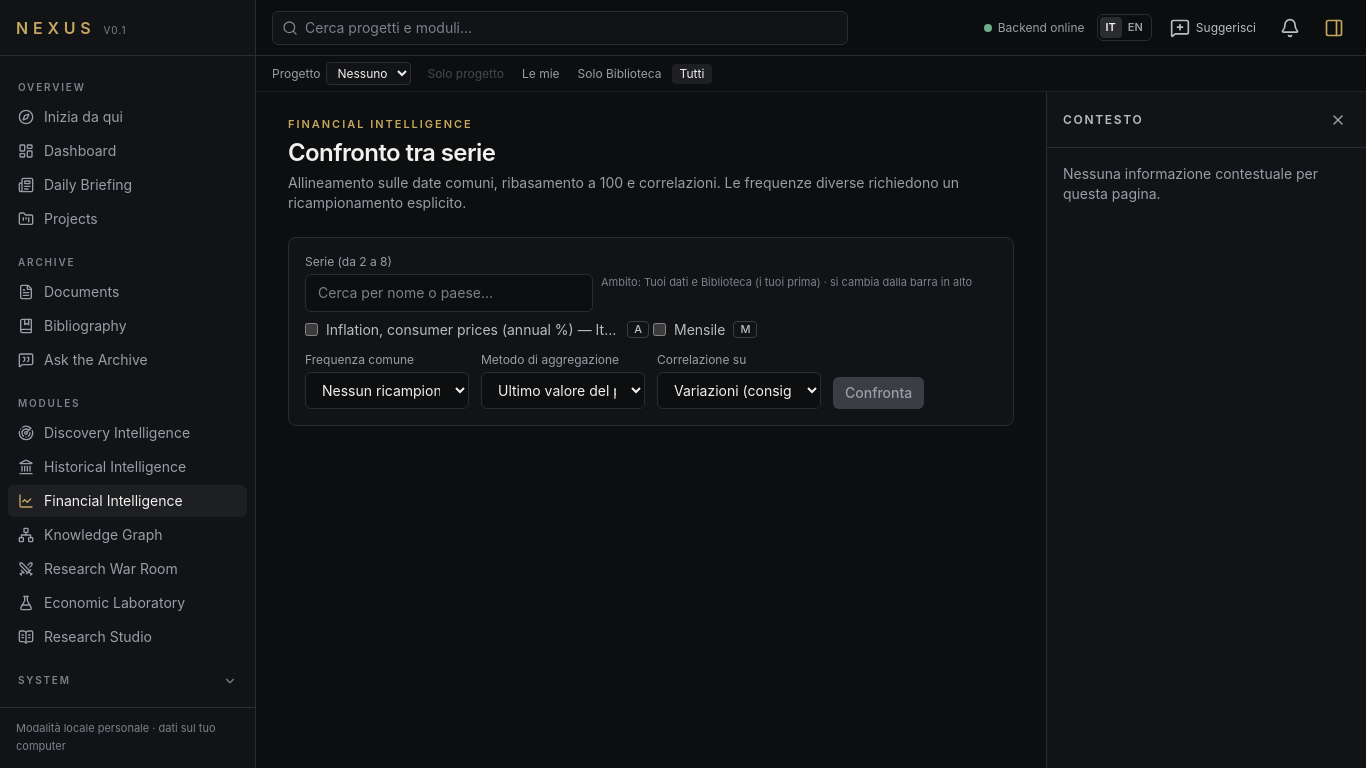
financial pages › surfaces the explicit-resampling requirement when comparing
This screenshot has width=1366, height=768.
Step 1. Click the checkbox labelled "Inflation, consumer prices (annual %) — Italy A" → (312, 330), box [305, 323, 318, 336]
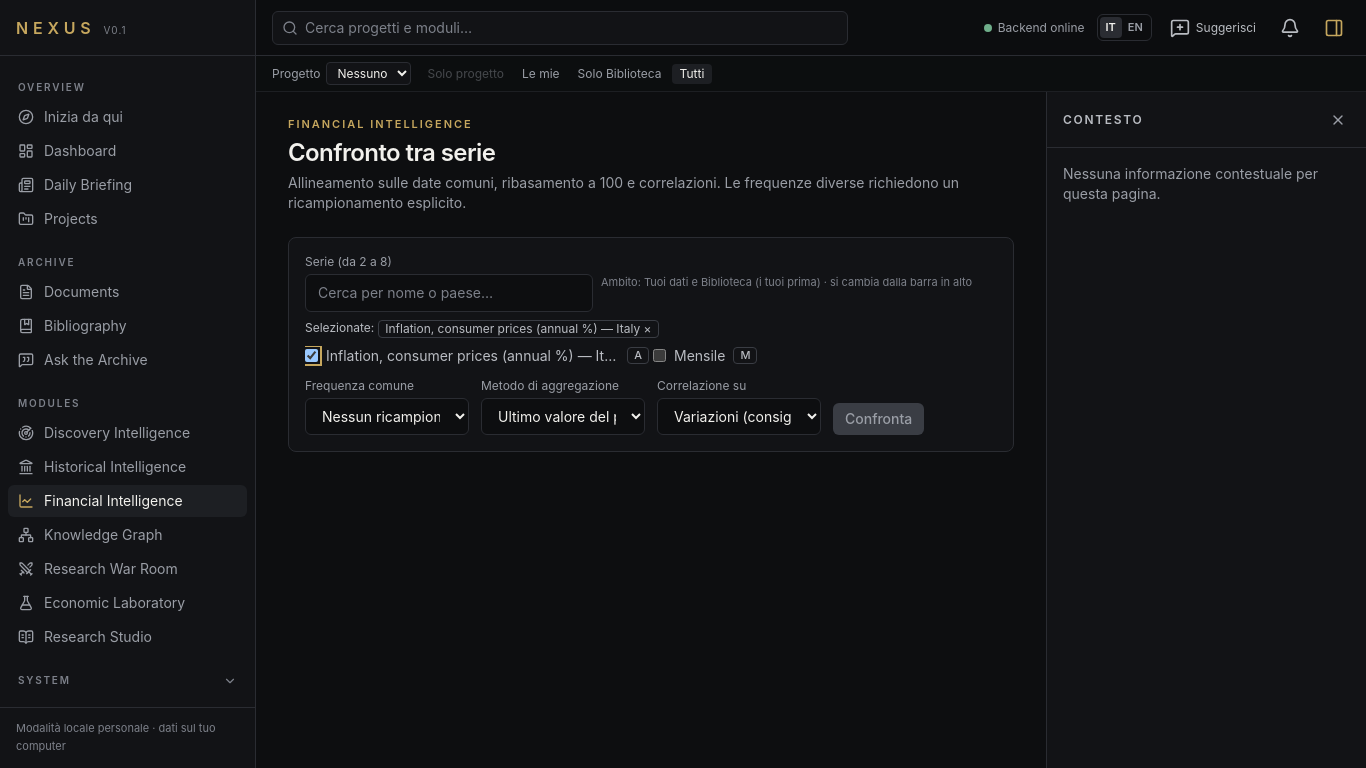
Step 2. Click the checkbox labelled "Mensile M" → (660, 356), box [653, 349, 666, 362]
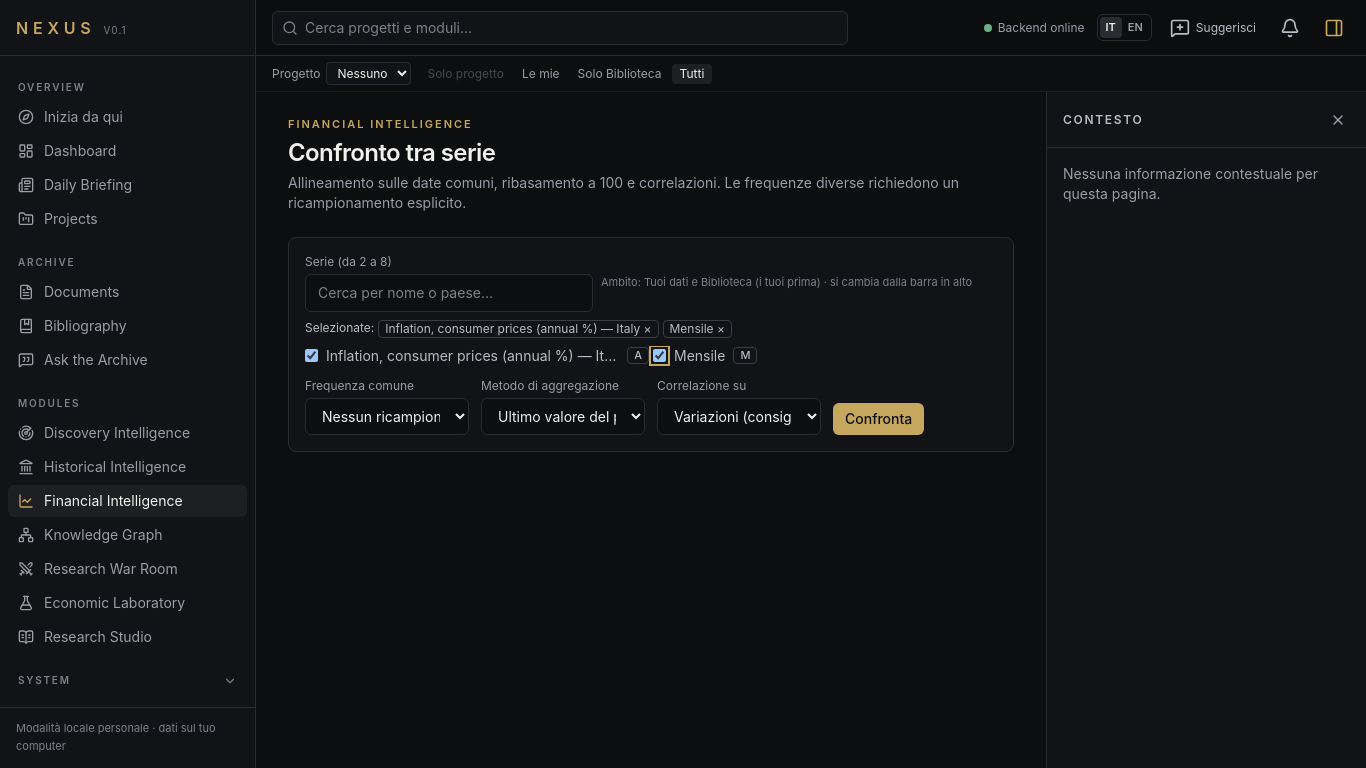
Step 3. Click the button "Confronta" → (879, 418), box [833, 402, 924, 434]
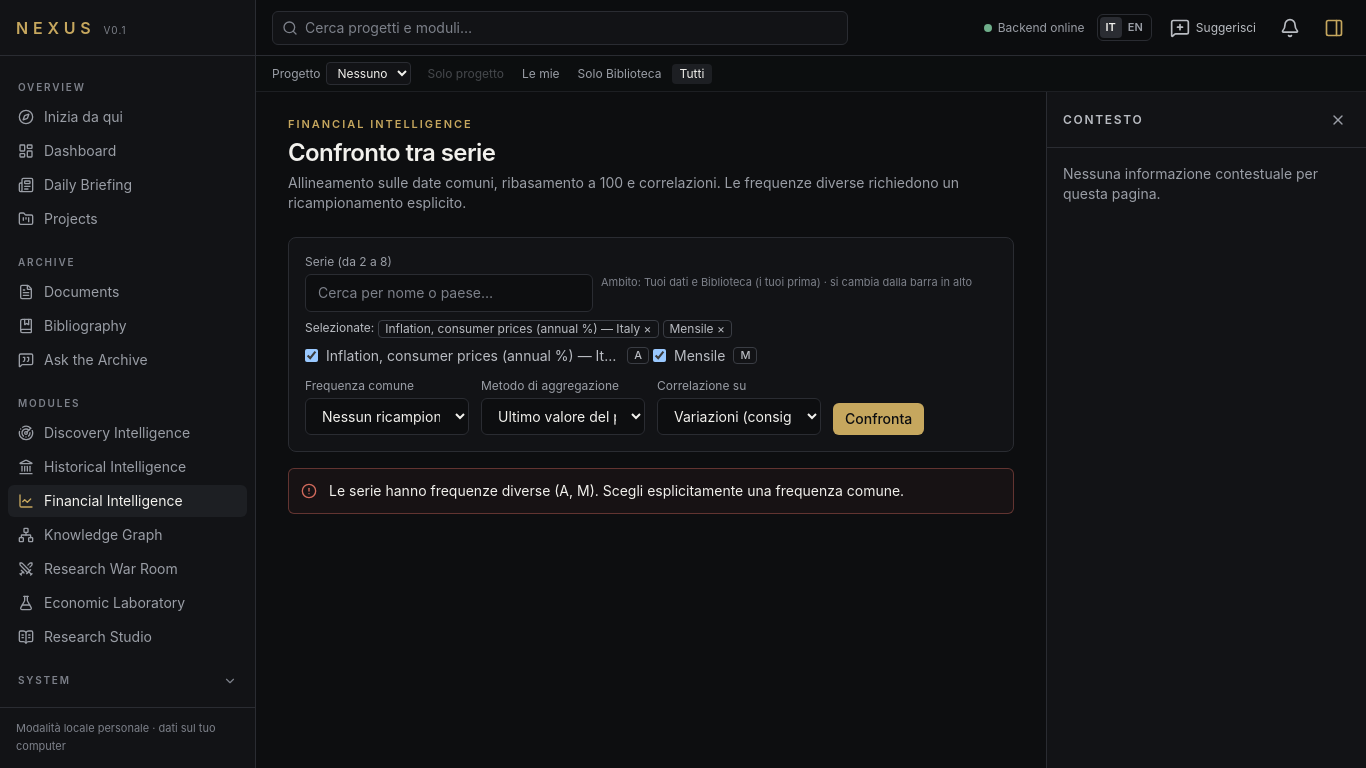
Check: the message shows "frequenze diverse (A, M)", box [329, 482, 904, 498]
